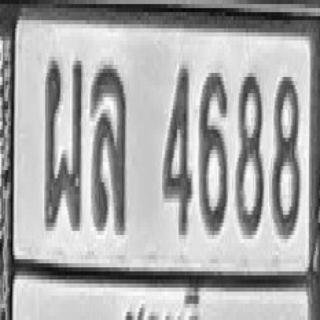A28: (44, 57, 83, 231)
A36: (91, 61, 126, 231)
N04: (163, 63, 192, 233)
N06: (199, 67, 227, 233)
N08: (235, 69, 264, 235), (271, 73, 300, 235)
